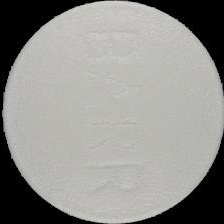0555-0286: (0, 0, 224, 224)
